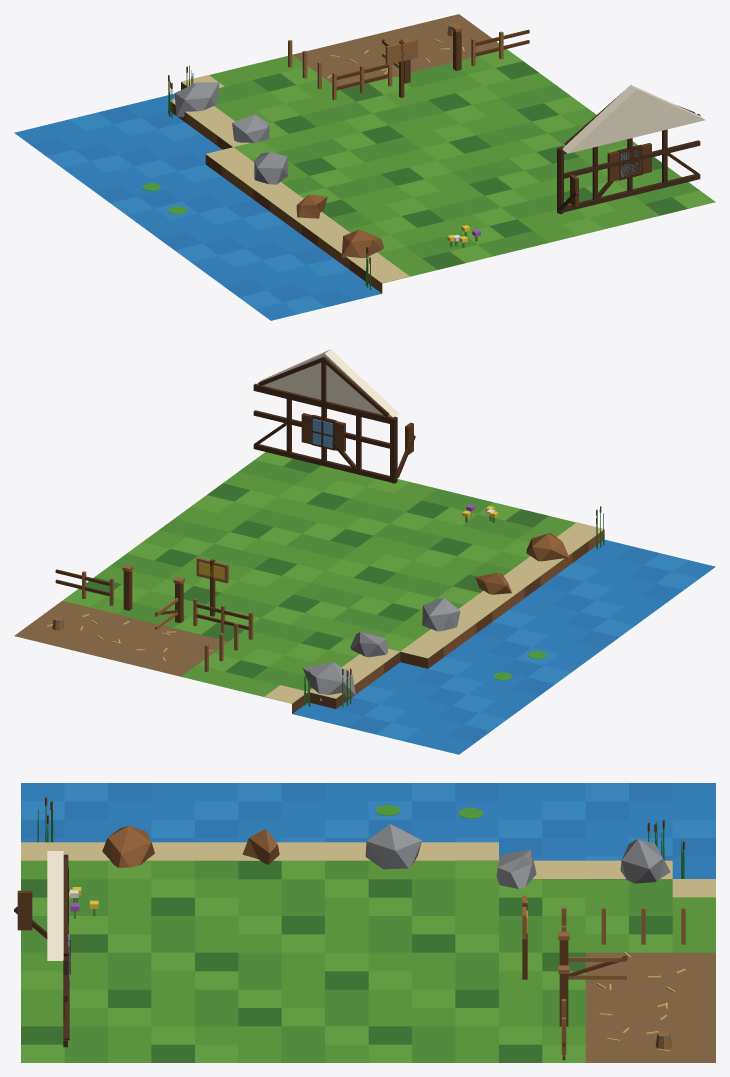
File: chunk_4_4.glb
3 views of the same model, one above another, from view 1: azimuth 30°, elevation 25°; view 2: azimuth 150°, elevation 25°; view 3: azimuth 270°, elevation 25° (orthographic). The views are drawn at different scales.
Visible parts, largest first — view 1: chunk_4_4; view 2: chunk_4_4; view 3: chunk_4_4.
Part boxes in pixels (x1,y1,x2,y2): chunk_4_4: [14, 14, 715, 320]; chunk_4_4: [14, 349, 715, 754]; chunk_4_4: [14, 783, 715, 1062].
Bounding box in the file's own units: 16.5 × 4.74 × 16.16.
